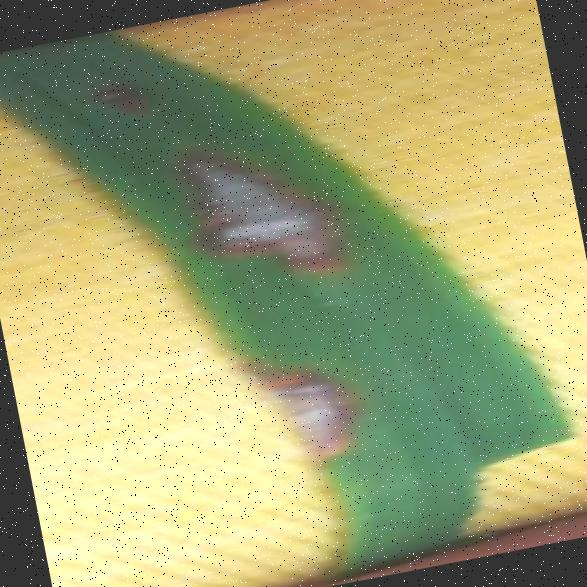Leaf_smut: (158, 96, 371, 315), (222, 332, 385, 484), (68, 44, 189, 145)
